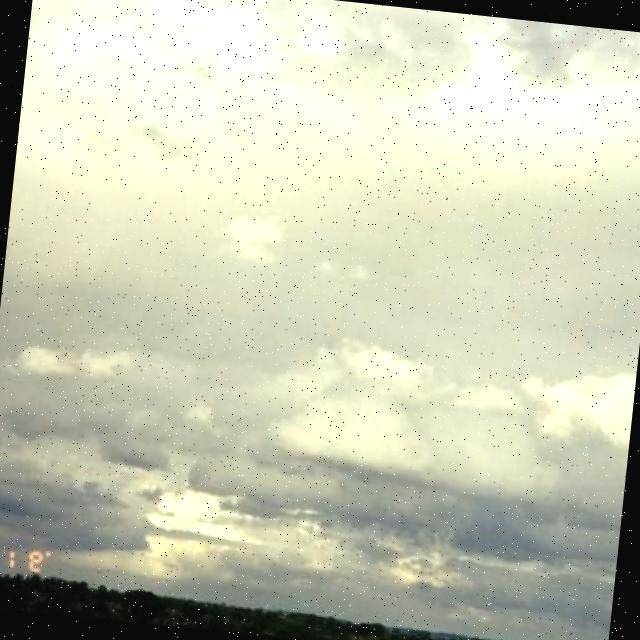Ns: (1, 1, 640, 559)
